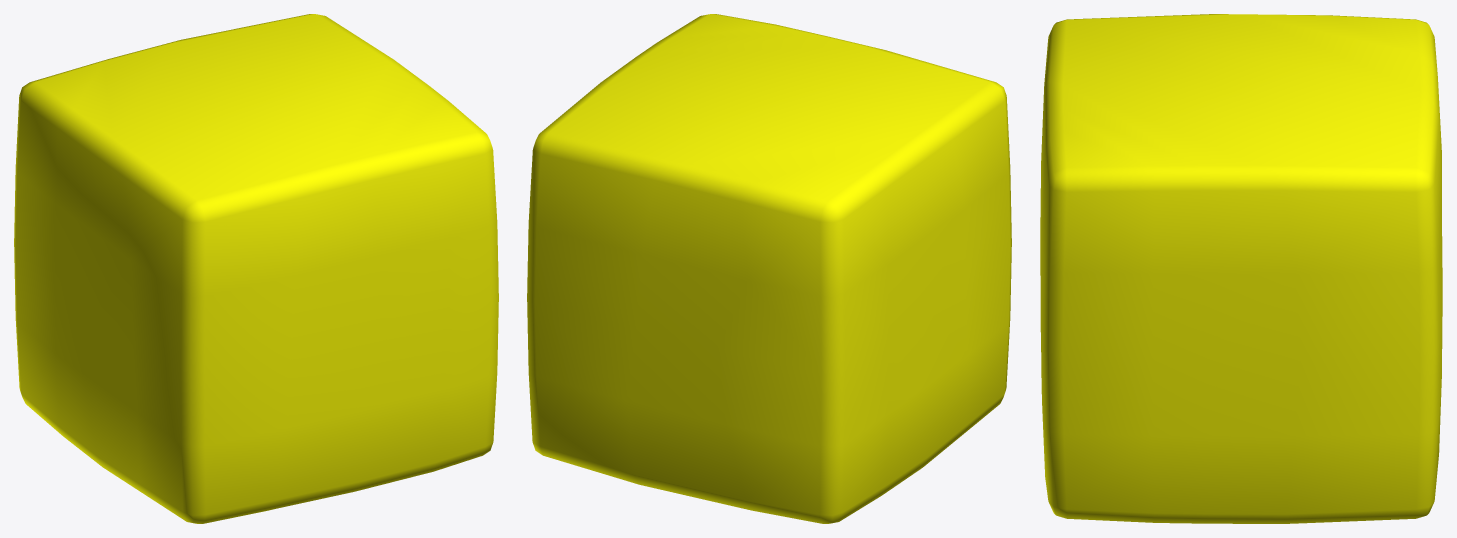
The model's file is ice_cube_3.glb.
The picture shows the model from 3 angles, left to right: view 1: azimuth 30°, elevation 25°; view 2: azimuth 150°, elevation 25°; view 3: azimuth 270°, elevation 25°; orthographic projection. The views are drawn at different scales.
Parts seen in each view (by area): view 1: Ice_block_3_LOD0; view 2: Ice_block_3_LOD0; view 3: Ice_block_3_LOD0.
Boxes of the visible parts, x1,y1,x2,y2 form: Ice_block_3_LOD0: (14, 14, 498, 523); Ice_block_3_LOD0: (527, 14, 1011, 523); Ice_block_3_LOD0: (1040, 14, 1442, 523).
Size of what is drawn, in the model's own units: 1.08 by 1.08 by 1.09.
1 material, 1 textured.
